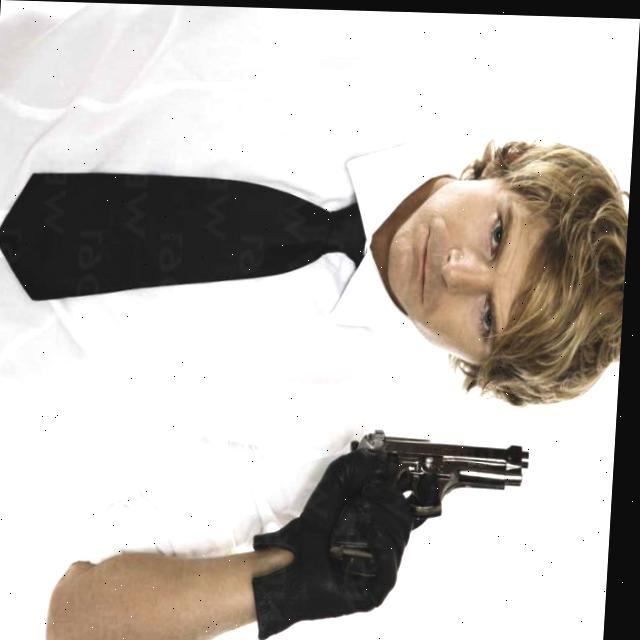gun: (341, 423, 539, 581)
